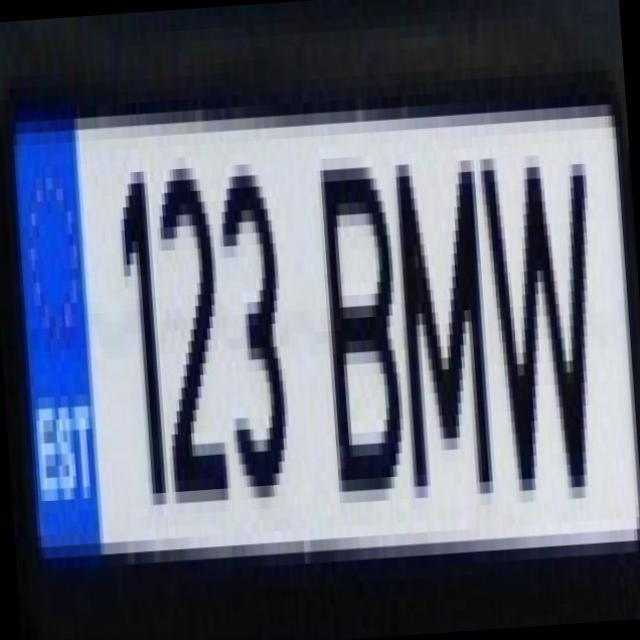License Plate: (5, 54, 640, 602)
